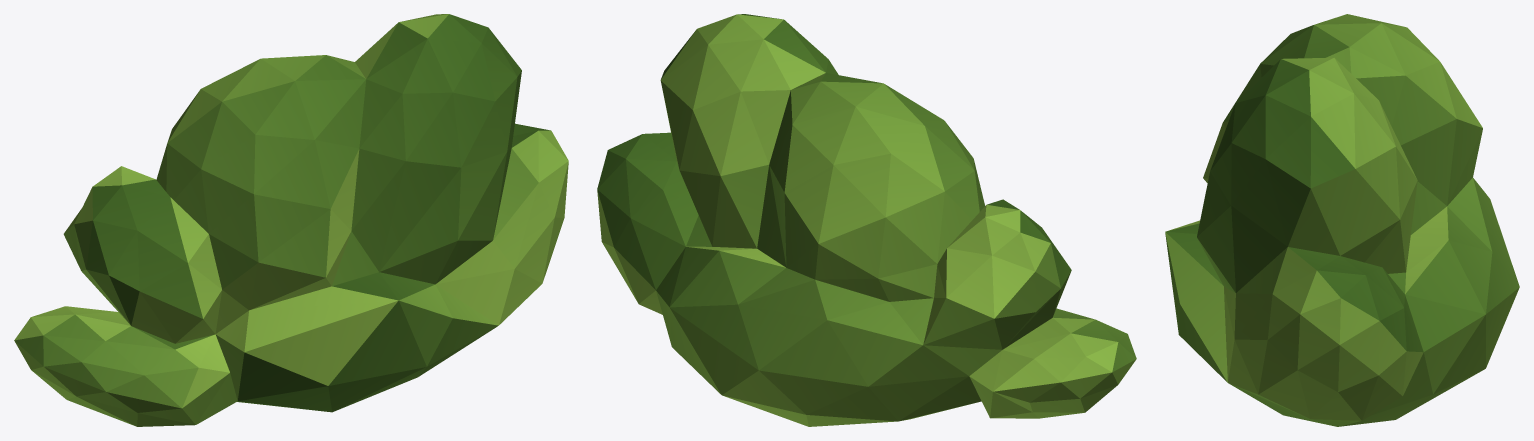
The model's file is BushLittle.fbx.
3 renders of one model, left to right at view 1: azimuth 30°, elevation 25°; view 2: azimuth 150°, elevation 25°; view 3: azimuth 270°, elevation 25°, orthographic. The views are drawn at different scales.
Parts seen in each view (by area): view 1: BushLittle_LOD0; view 2: BushLittle_LOD0; view 3: BushLittle_LOD0.
Boxes of the visible parts, left/top/right/bottom form: BushLittle_LOD0: left=14, top=14, right=568, bottom=426; BushLittle_LOD0: left=597, top=14, right=1136, bottom=426; BushLittle_LOD0: left=1165, top=14, right=1519, bottom=426.
Size of what is drawn, in the model's own units: 248 by 160 by 133.
